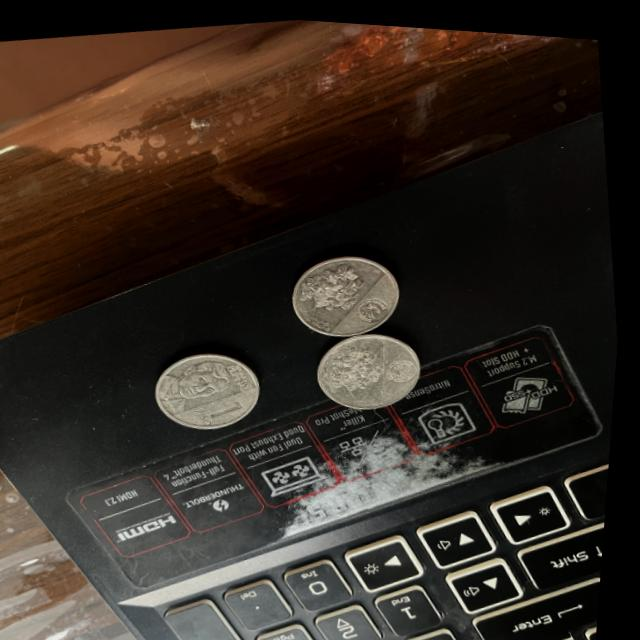1_New_Back: (319, 330, 401, 405), (293, 252, 379, 320)
1_New_Front: (194, 389, 255, 429)
